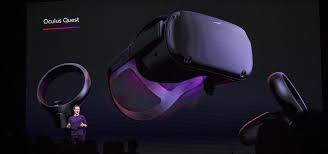oculus: (136, 12, 255, 95)
